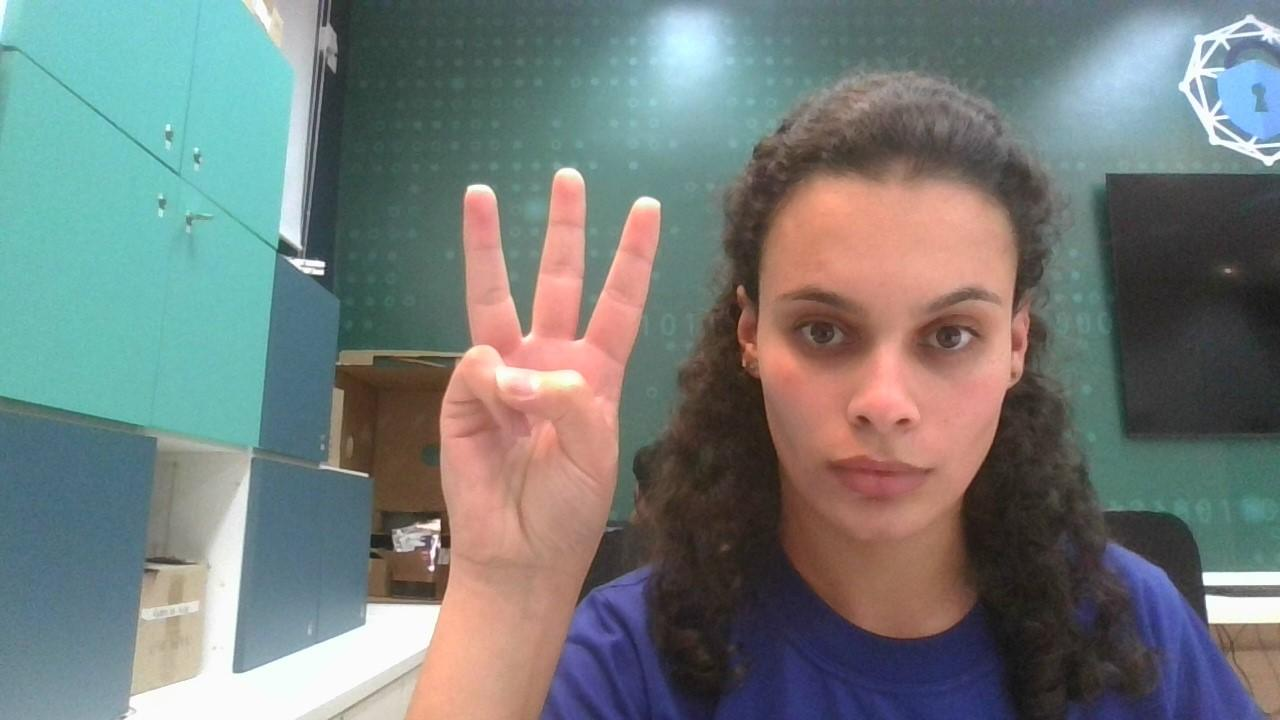W: (420, 150, 688, 628)
